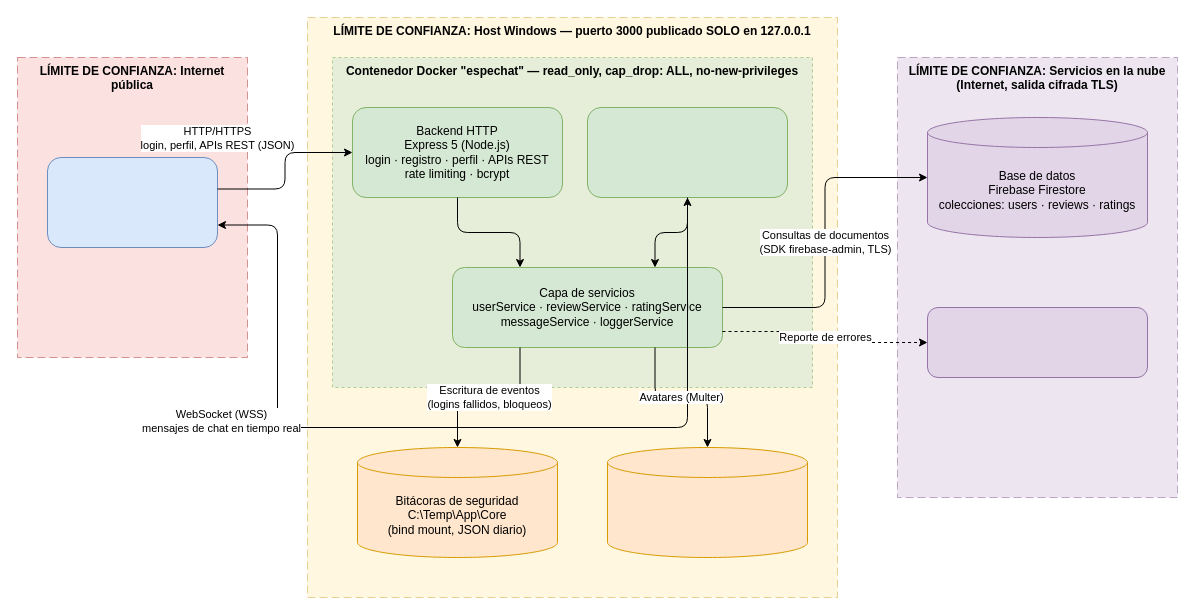
This 1195x615 diagram has some shape labels left out. Each missing label, with the centre of its shape:
Avatares de usuarios volumen espechat-uploads: (x=707, y=502)
Cliente (Navegador web) HTML / CSS / JavaScript: (x=132, y=202)
Monitoreo de errores Sentry: (x=1037, y=342)
Tiempo real Socket.IO (WebSocket) salas de chat · reseñas en vivo: (x=687, y=152)
